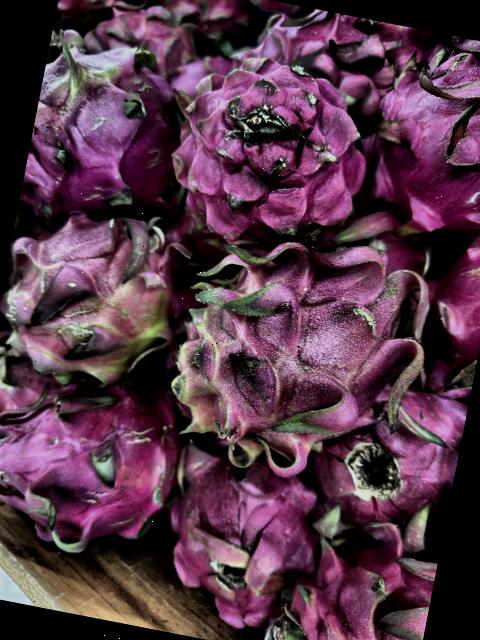buah-naga-belum-matang: (168, 216, 450, 492), (0, 200, 194, 402)
buah-naga-matang: (156, 57, 376, 243), (149, 431, 338, 628), (0, 370, 195, 551), (22, 34, 194, 216), (296, 361, 470, 536), (365, 25, 480, 241), (264, 513, 441, 640), (239, 0, 412, 109), (415, 224, 480, 384), (79, 0, 205, 71)
